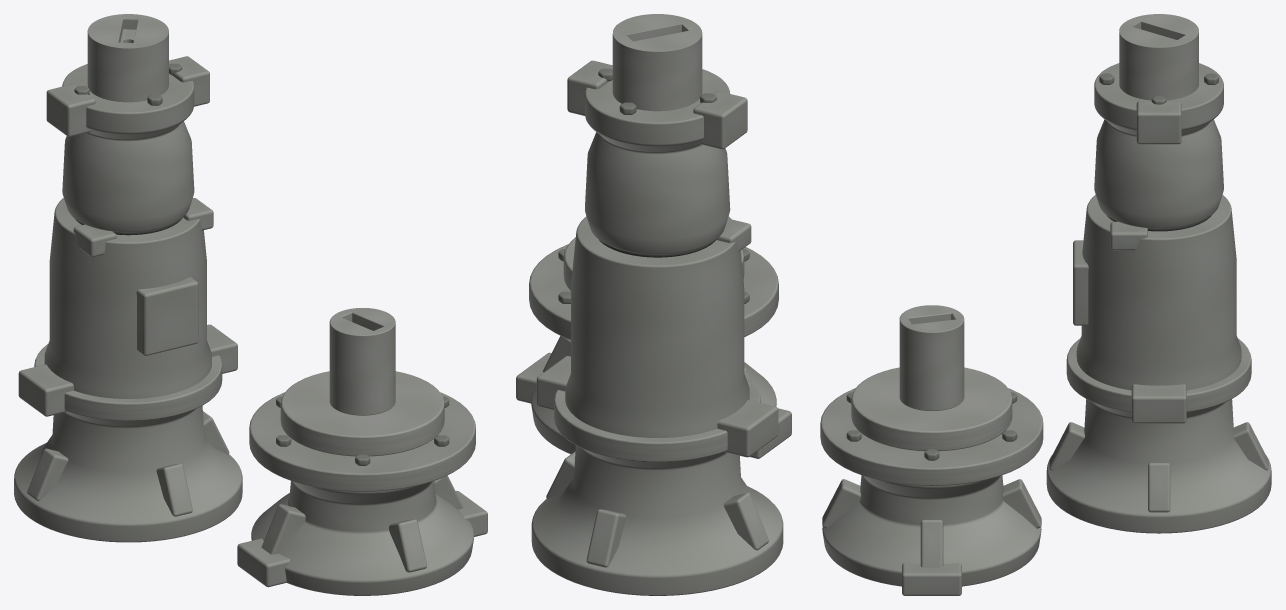
Rendered from brake_valves_reference_without_handles.glb.
3 renders of one model, left to right at view 1: azimuth 30°, elevation 25°; view 2: azimuth 150°, elevation 25°; view 3: azimuth 270°, elevation 25°, orthographic. The views are drawn at different scales.
Parts seen in each view (by area): view 1: Tall_Lower_Casting, Short_Lower_Casting, Tall_Upper_Casting, Short_Flange, Short_Cover, Short_Exposed_Spindle, Tall_Exposed_Spindle, Tall_Front_Cast_Boss, Tall_Lower_Flange, Tall_Lower_Flange_Ear_1, Tall_Cap_Ear_1, Short_Mounting_Lug_-0.042 (+8 smaller); view 2: Tall_Lower_Casting, Tall_Upper_Casting, Tall_Exposed_Spindle, Short_Flange, Tall_Lower_Flange, Tall_Lower_Flange_Ear_1, Tall_Cap_Ear_1, Short_Lower_Casting, Tall_Foot_Rib_1, Tall_Foot_Rib_2, Tall_Cap_Ear_0, Tall_Lower_Flange_Ear_0 (+7 smaller); view 3: Tall_Lower_Casting, Short_Lower_Casting, Tall_Upper_Casting, Short_Flange, Short_Cover, Short_Exposed_Spindle, Tall_Exposed_Spindle, Tall_Lower_Flange, Tall_Lower_Flange_Ear_0, Tall_Cap_Ear_0, Short_Mounting_Lug_0.042, Tall_Front_Cast_Boss (+7 smaller).
Boxes of the visible parts, x1,y1,x2,y2 form: Tall_Lower_Casting: (14, 198, 242, 542); Short_Lower_Casting: (251, 481, 473, 595); Tall_Upper_Casting: (62, 64, 194, 232); Short_Flange: (249, 392, 475, 491); Short_Cover: (280, 371, 444, 456); Short_Exposed_Spindle: (329, 308, 395, 415); Tall_Exposed_Spindle: (87, 14, 168, 102); Tall_Front_Cast_Boss: (136, 277, 198, 355); Tall_Lower_Flange: (34, 344, 222, 420); Tall_Lower_Flange_Ear_1: (18, 364, 73, 416); Tall_Cap_Ear_1: (46, 84, 95, 136); Short_Mounting_Lug_-0.042: (237, 538, 289, 587); Tall_Lower_Casting: (531, 216, 783, 595); Tall_Upper_Casting: (585, 69, 730, 254); Tall_Exposed_Spindle: (612, 14, 702, 111); Short_Flange: (529, 244, 778, 339); Tall_Lower_Flange: (554, 377, 760, 462); Tall_Lower_Flange_Ear_1: (717, 400, 778, 457); Tall_Cap_Ear_1: (693, 91, 747, 149); Short_Lower_Casting: (531, 362, 776, 454); Tall_Foot_Rib_1: (586, 509, 626, 567); Tall_Foot_Rib_2: (723, 492, 768, 550); Tall_Cap_Ear_0: (567, 60, 612, 115); Tall_Lower_Flange_Ear_0: (536, 356, 570, 410); Tall_Lower_Casting: (1046, 194, 1271, 533); Short_Lower_Casting: (822, 475, 1041, 586); Tall_Upper_Casting: (1094, 63, 1223, 228); Short_Flange: (820, 388, 1043, 485); Short_Cover: (851, 367, 1012, 451); Short_Exposed_Spindle: (899, 305, 964, 410); Tall_Exposed_Spindle: (1119, 14, 1198, 100); Tall_Lower_Flange: (1066, 338, 1251, 412); Tall_Lower_Flange_Ear_0: (1131, 384, 1186, 423); Tall_Cap_Ear_0: (1136, 101, 1181, 144); Short_Mounting_Lug_0.042: (902, 562, 961, 595); Tall_Front_Cast_Boss: (1073, 240, 1088, 325).
Size of the model in its own units: 0.1495 by 0.2015 by 0.1806.
4 materials, 3 textured.
